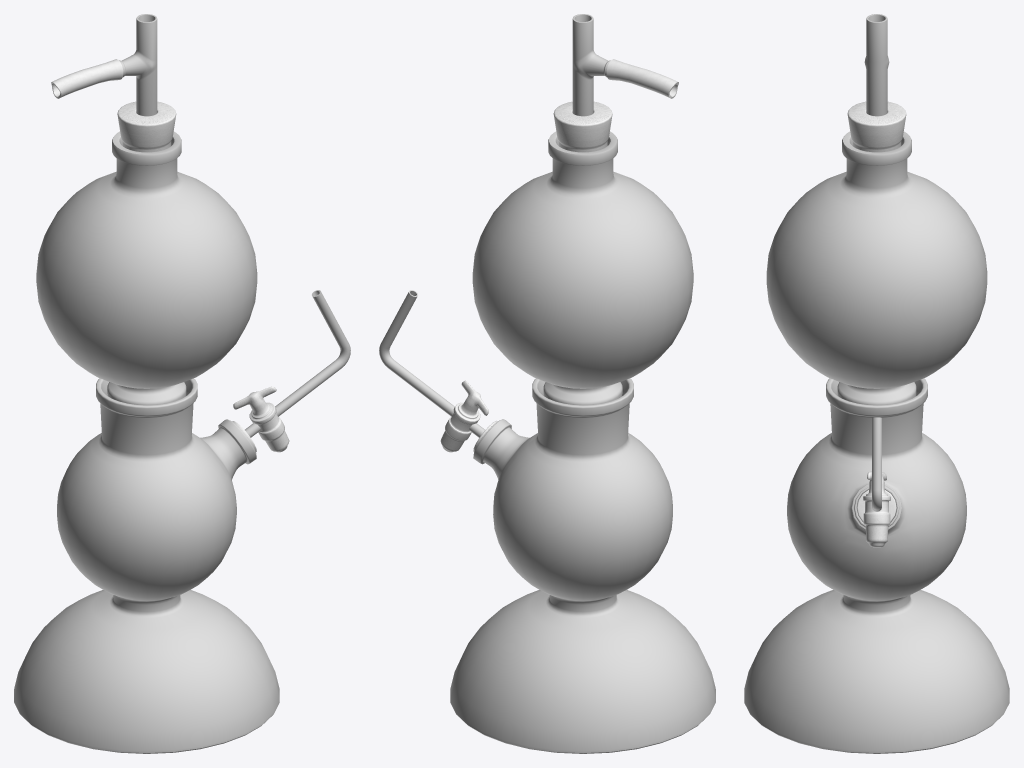
File: chemical_Rev's generator.FBX
3 views of the same model, side by side, from view 1: azimuth 30°, elevation 25°; view 2: azimuth 150°, elevation 25°; view 3: azimuth 270°, elevation 25° (orthographic).
Parts seen in each view (by area): view 1: chemical_Rev's generator; view 2: chemical_Rev's generator; view 3: chemical_Rev's generator.
Part boxes in pixels (x1,y1,x2,y2): chemical_Rev's generator: (14,14,350,753); chemical_Rev's generator: (379,14,715,753); chemical_Rev's generator: (744,14,1009,753).
Bounding box in the file's own units: 19.82 × 40.39 × 14.29.
2 materials, 1 textured.
